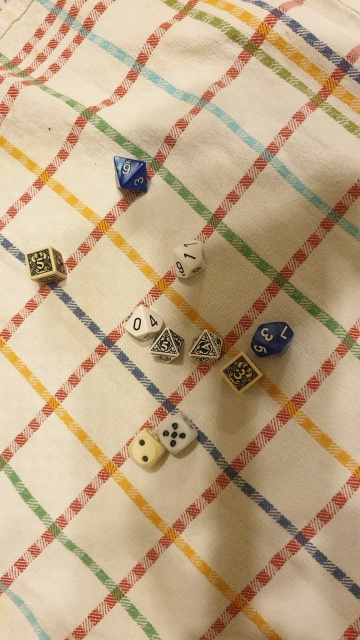d10-1: (166, 234, 209, 285)
d10-10: (117, 301, 163, 344)
d10-3: (242, 317, 297, 362)
d10-6: (111, 152, 153, 198)
d6-2: (121, 428, 165, 473)
d6-5: (154, 410, 198, 461)
d6p-3: (217, 349, 261, 397)
d6p-5: (22, 246, 69, 285)
d8p-4: (185, 324, 225, 371)
d8p-5: (151, 325, 185, 369)
